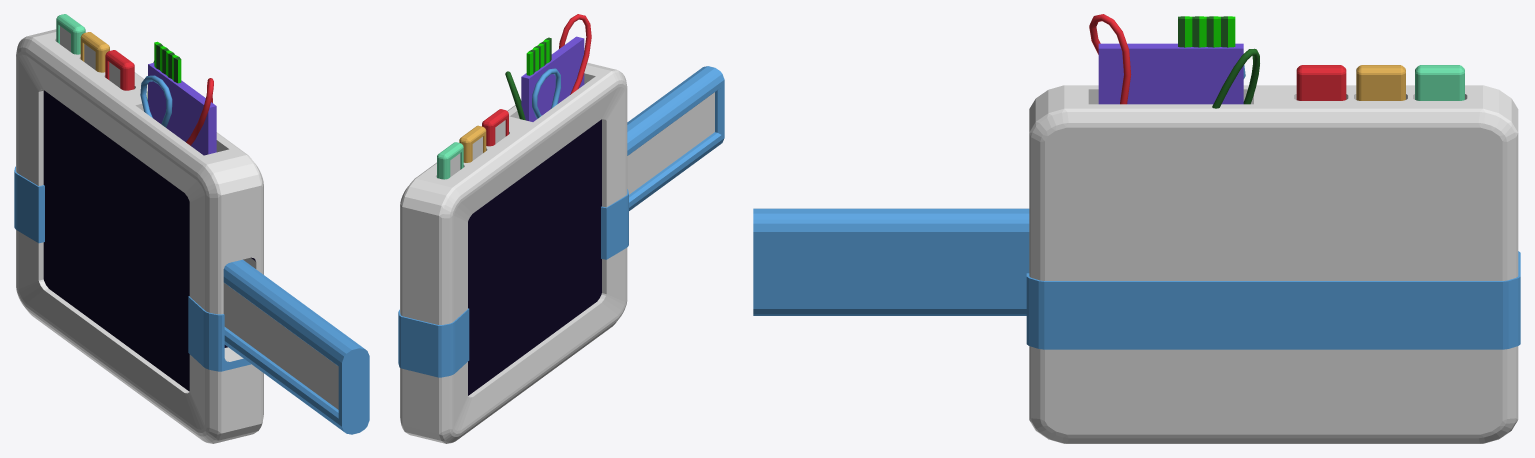
Rendered from pantalla.fbx.
3 views of the same model, side by side, from view 1: azimuth 30°, elevation 25°; view 2: azimuth 150°, elevation 25°; view 3: azimuth 270°, elevation 25° (orthographic). The views are drawn at different scales.
Parts seen in each view (by area): view 1: Cubo, Cubo.005, Cubo.004, Cubo.003, Cubo.002, Cubo.001, Curva_Bezier.002, Curva_Bezier.001; view 2: Cubo, Cubo.005, Cubo.002, Cubo.003, Curva_Bezier.001, Cubo.004, Cubo.001, Curva_Bezier.002, Curva_Bezier; view 3: Cubo, Cubo.005, Cubo.001, Cubo.004, Cubo.002, Cubo.003, Curva_Bezier.001, Curva_Bezier.
Part boxes in pixels (left/top/right/bottom): Cubo: left=14, top=29, right=263, bottom=443; Cubo.005: left=223, top=259, right=369, bottom=434; Cubo.004: left=105, top=50, right=134, bottom=90; Cubo.003: left=80, top=32, right=109, bottom=72; Cubo.002: left=56, top=14, right=85, bottom=54; Cubo.001: left=154, top=41, right=181, bottom=83; Curva_Bezier.002: left=140, top=75, right=172, bottom=127; Curva_Bezier.001: left=186, top=78, right=213, bottom=145; Cubo: left=398, top=36, right=628, bottom=443; Cubo.005: left=627, top=66, right=724, bottom=210; Cubo.002: left=437, top=142, right=463, bottom=179; Cubo.003: left=459, top=125, right=486, bottom=162; Curva_Bezier.001: left=559, top=14, right=591, bottom=94; Cubo.004: left=482, top=109, right=508, bottom=146; Cubo.001: left=526, top=37, right=551, bottom=75; Curva_Bezier.002: left=532, top=68, right=561, bottom=118; Curva_Bezier: left=505, top=71, right=525, bottom=120; Cubo: left=1026, top=43, right=1520, bottom=443; Cubo.005: left=753, top=208, right=1029, bottom=315; Cubo.001: left=1178, top=16, right=1235, bottom=47; Cubo.004: left=1296, top=65, right=1346, bottom=100; Cubo.002: left=1415, top=65, right=1464, bottom=100; Cubo.003: left=1356, top=65, right=1405, bottom=100; Curva_Bezier.001: left=1089, top=14, right=1131, bottom=104; Curva_Bezier: left=1212, top=48, right=1259, bottom=108.
Bounding box in the file's own units: 136 × 765 × 1273.
